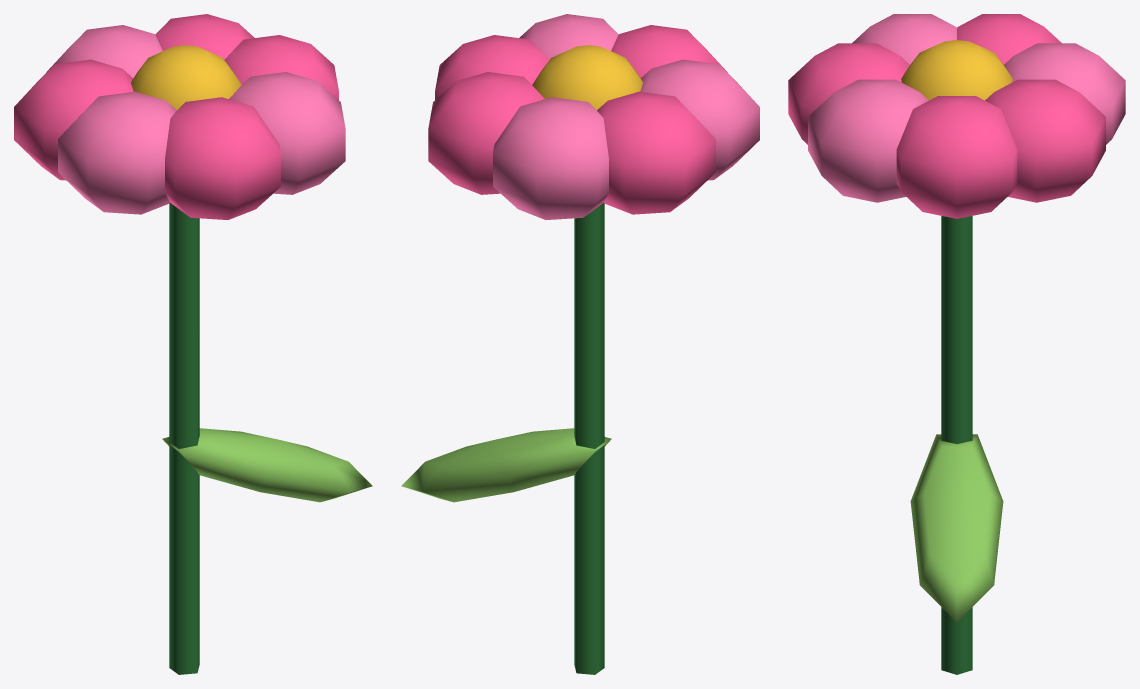
File: flower_single.glb
3 renders of one model, left to right at view 1: azimuth 30°, elevation 25°; view 2: azimuth 150°, elevation 25°; view 3: azimuth 270°, elevation 25°, orthographic.
Parts seen in each view (by area): view 1: root; view 2: root; view 3: root.
Boxes of the visible parts, x1=… form: root: x1=14, y1=14, x2=372, y2=674; root: x1=401, y1=14, x2=759, y2=674; root: x1=788, y1=14, x2=1125, y2=674.
Size of the model in its own units: 0.275 by 0.505 by 0.2482.
